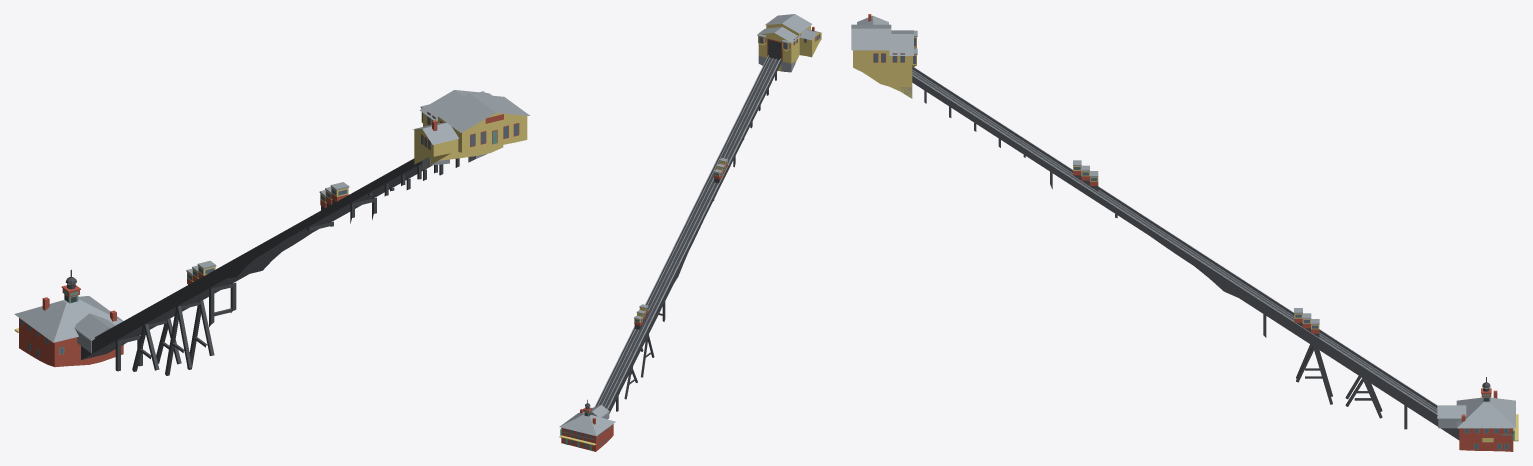
Rendered from pit-monongahela-incline.glb.
3 renders of one model, left to right at view 1: azimuth 30°, elevation 25°; view 2: azimuth 150°, elevation 25°; view 3: azimuth 270°, elevation 25°, orthographic. The views are drawn at different scales.
Parts seen in each view (by area): view 1: Monongahela Incline; view 2: Monongahela Incline; view 3: Monongahela Incline.
Part boxes in pixels (box(x1,y1,x2,y2)): Monongahela Incline: box(14, 90, 529, 375); Monongahela Incline: box(559, 14, 821, 451); Monongahela Incline: box(851, 14, 1518, 451).
Size of the model in its own units: 21.6 by 120 by 175.
